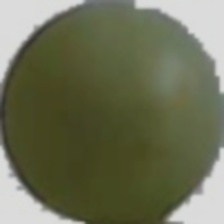grapes: (12, 49, 177, 196)
